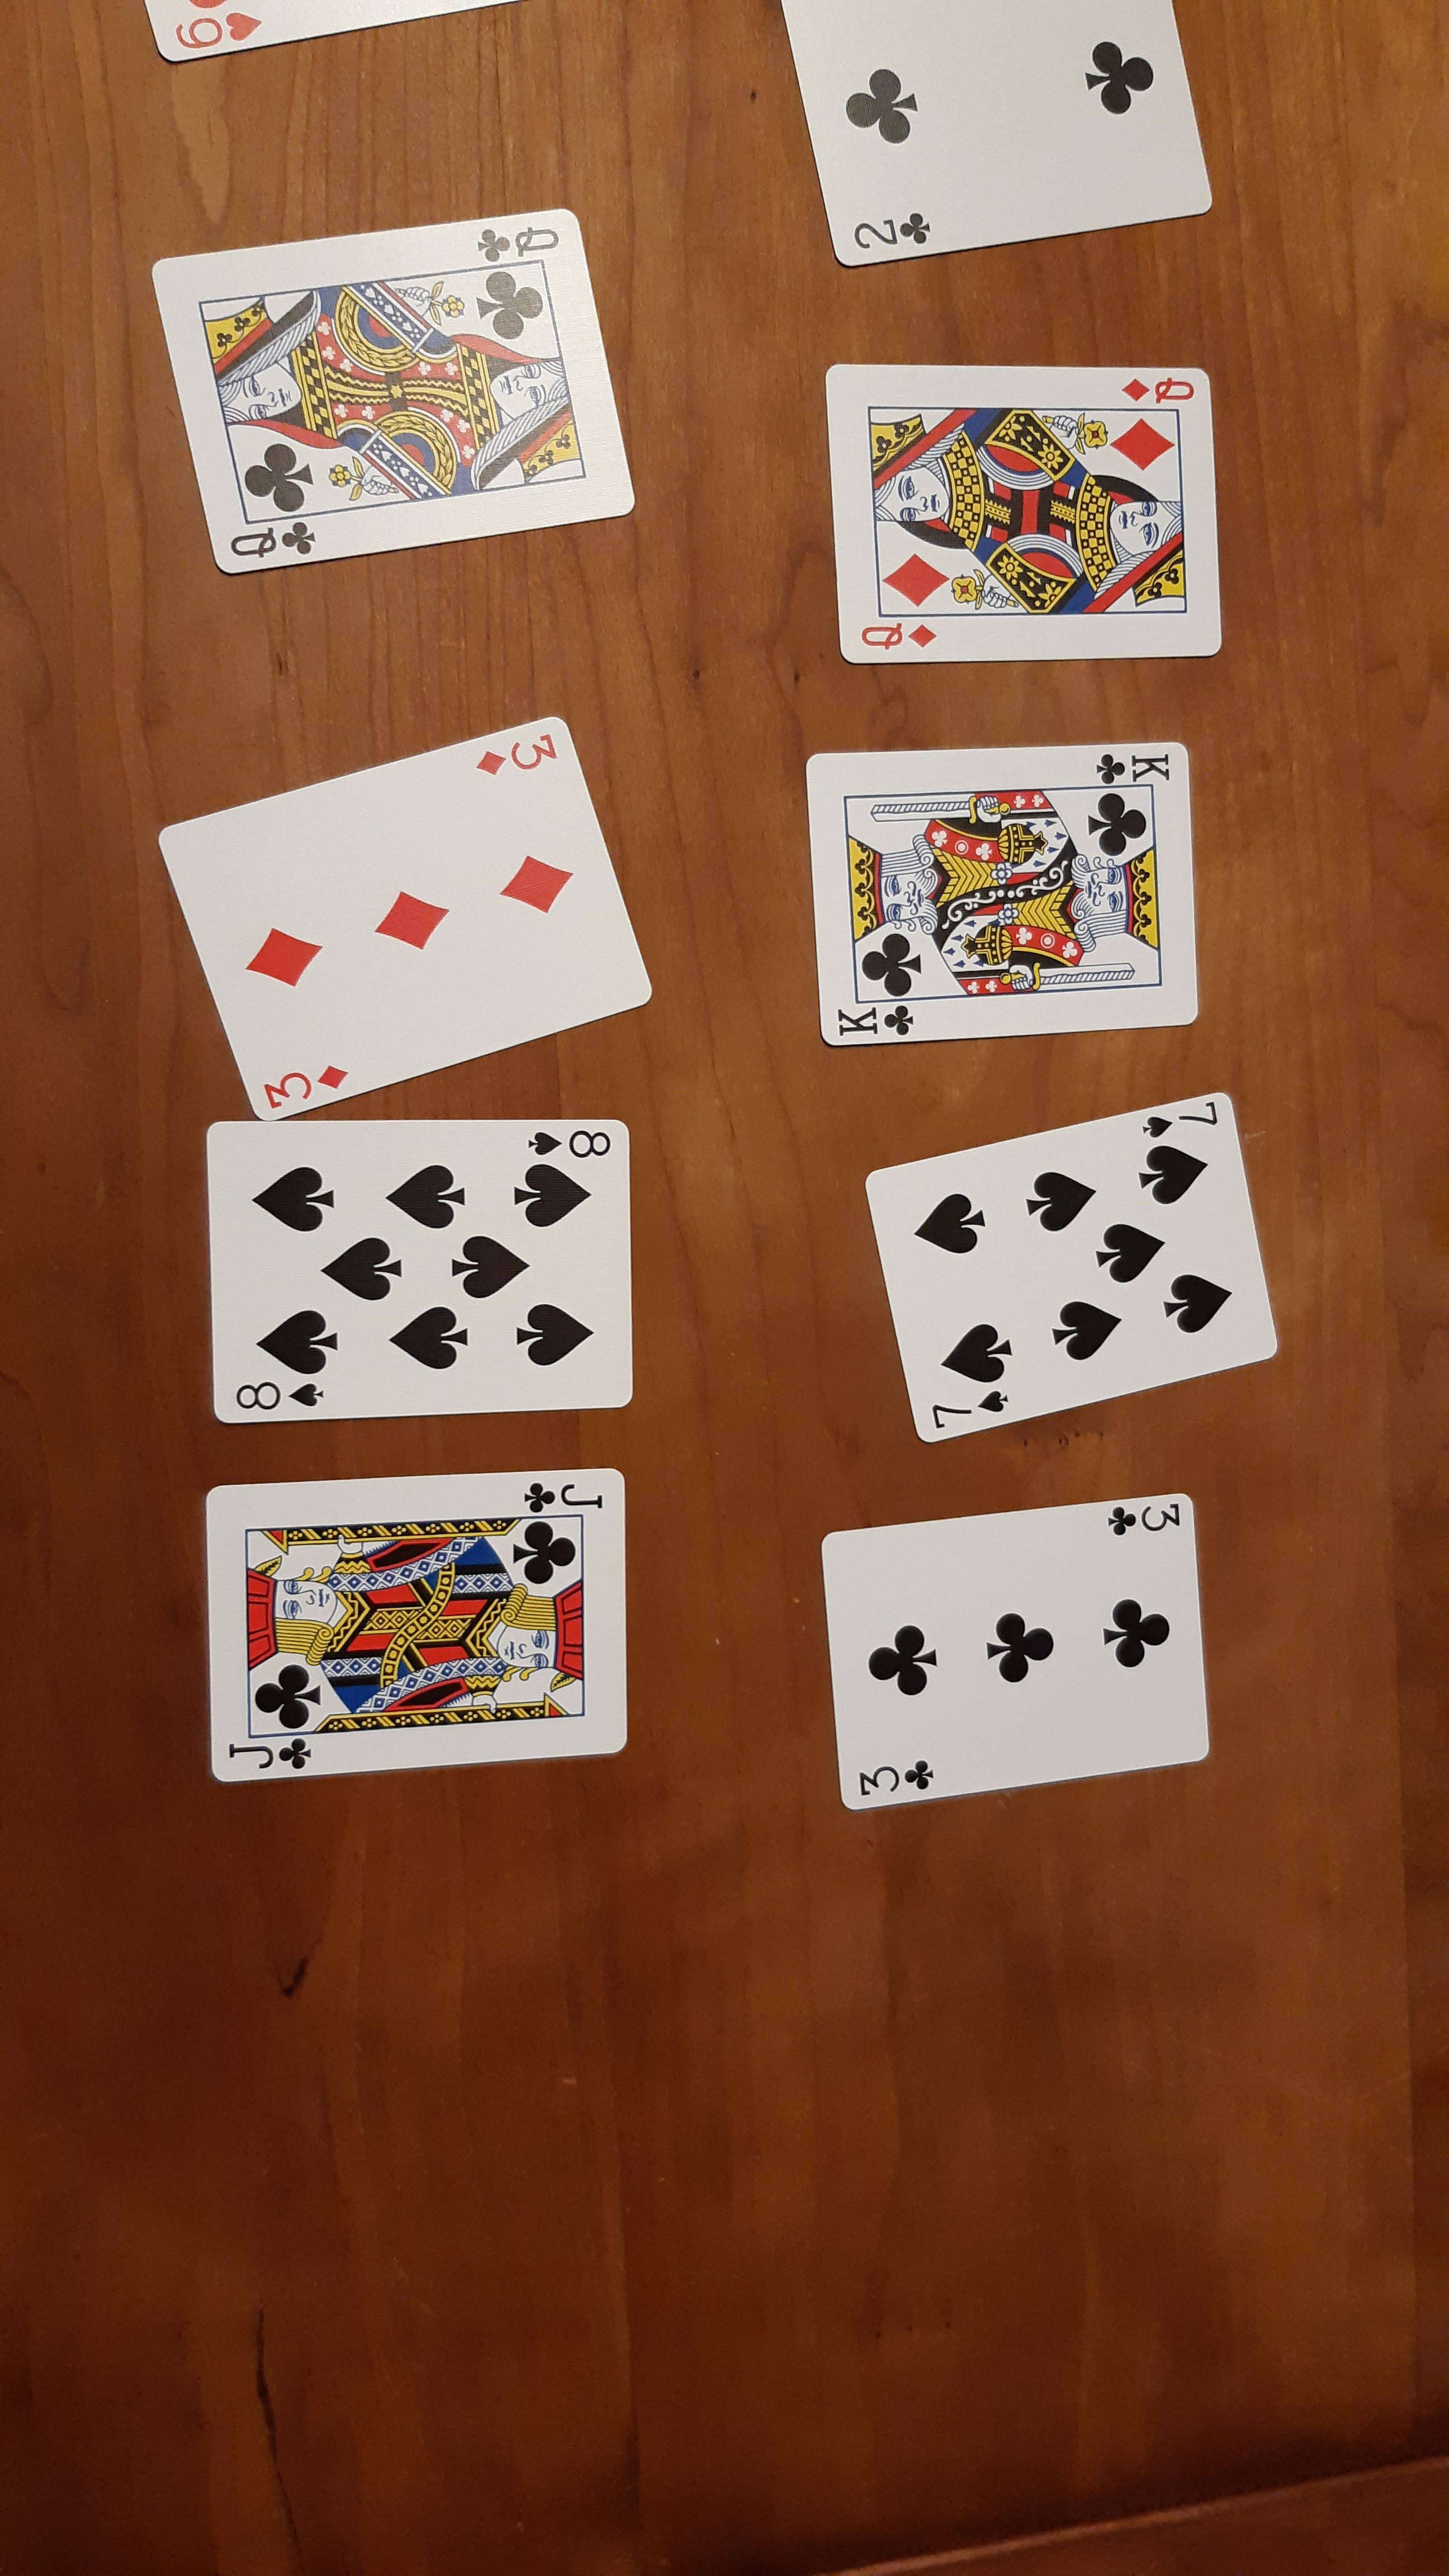Black_Club_2: (844, 209, 941, 253)
Black_Club_3: (847, 1753, 934, 1808), (1104, 1497, 1187, 1541)
Black_Club_8: (221, 1371, 329, 1414), (525, 1118, 616, 1162)
Black_Club_Jack: (515, 1470, 616, 1518), (221, 1734, 322, 1775)
Black_Club_King: (828, 994, 918, 1046), (1090, 743, 1177, 789)
Black_Club_Queen: (212, 513, 318, 566), (472, 216, 561, 265)
Black_Spade_7: (915, 1385, 1014, 1435), (1138, 1095, 1217, 1145)
Red_Diamond_3: (249, 1054, 349, 1111), (474, 725, 557, 782)
Red_Diamond_Queen: (855, 612, 945, 660), (1118, 370, 1200, 409)
